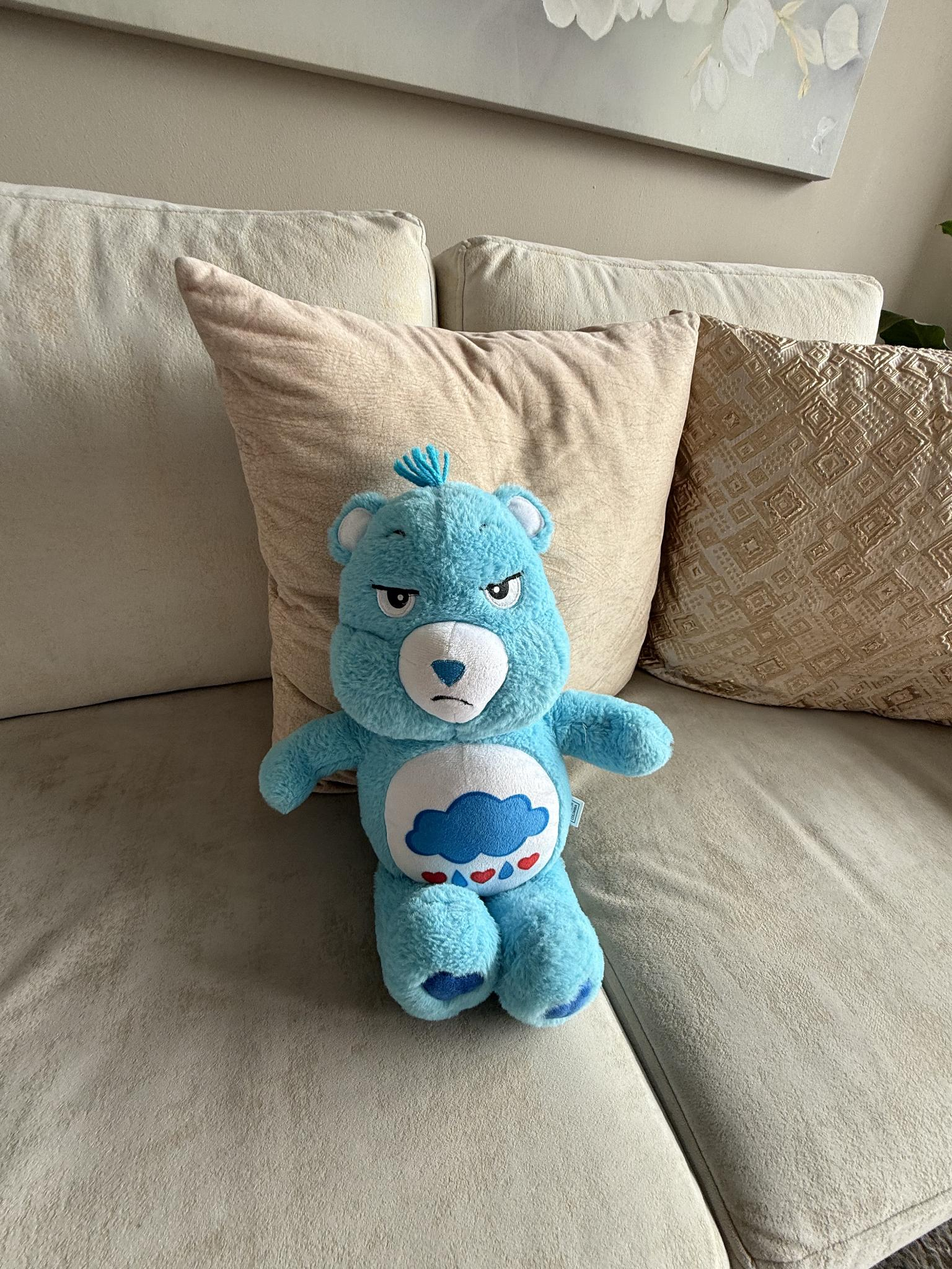peluche_Juan Jose: (257, 445, 673, 1028)
